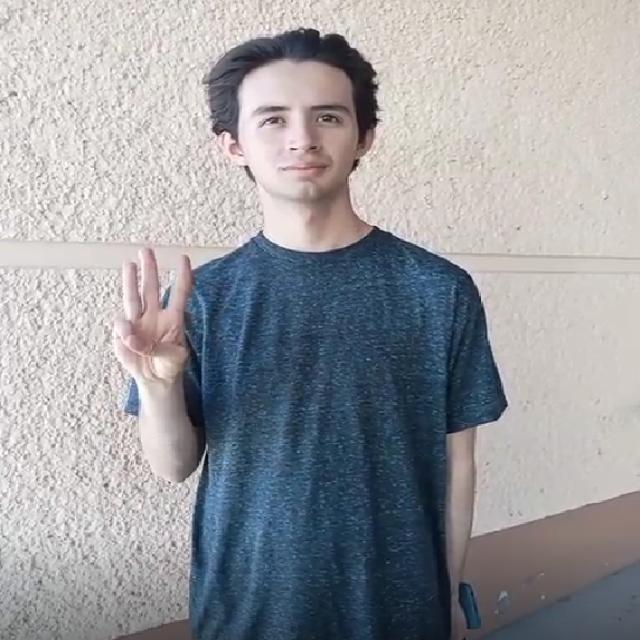W: (96, 236, 206, 394)
